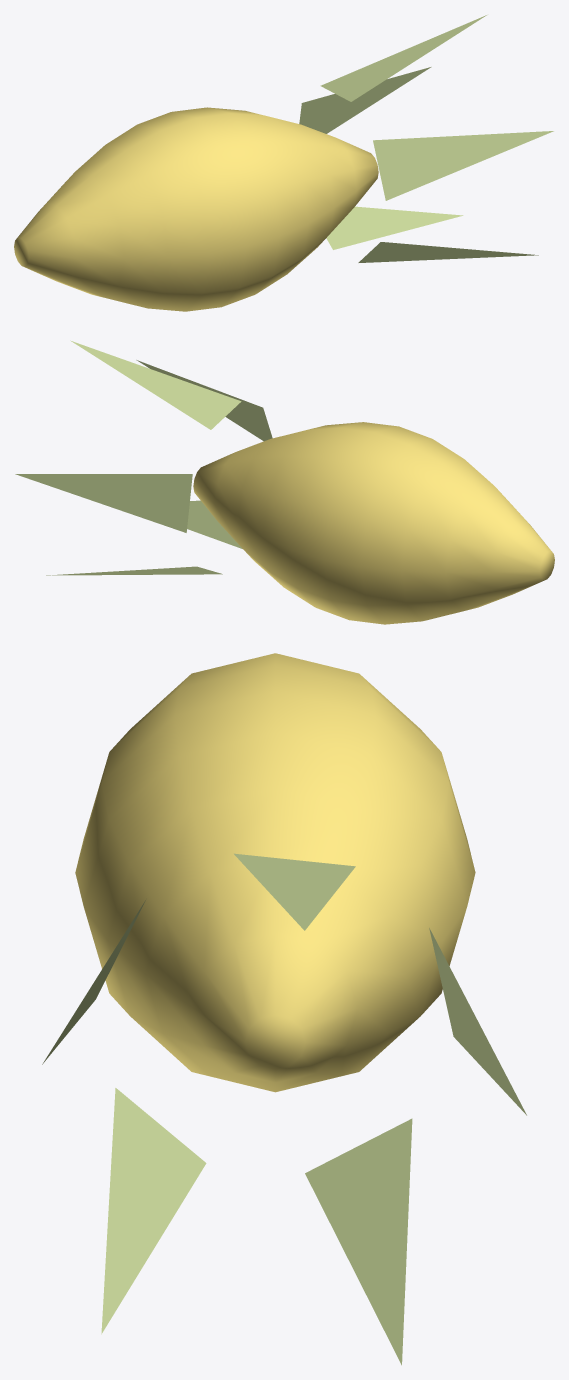
Rendered from corn.glb.
The picture shows the model from 3 angles, top to bottom: view 1: azimuth 30°, elevation 25°; view 2: azimuth 150°, elevation 25°; view 3: azimuth 270°, elevation 25°; orthographic projection. The views are drawn at different scales.
Visible parts, largest first — view 1: corn_cob_0; view 2: corn_cob_0; view 3: corn_cob_0.
Part boxes in pixels (bbox=[...]): corn_cob_0: bbox=[14, 15, 553, 311]; corn_cob_0: bbox=[15, 340, 554, 624]; corn_cob_0: bbox=[42, 653, 526, 1365].
Bounding box in the file's own units: 0.19 × 0.0839 × 0.085.
